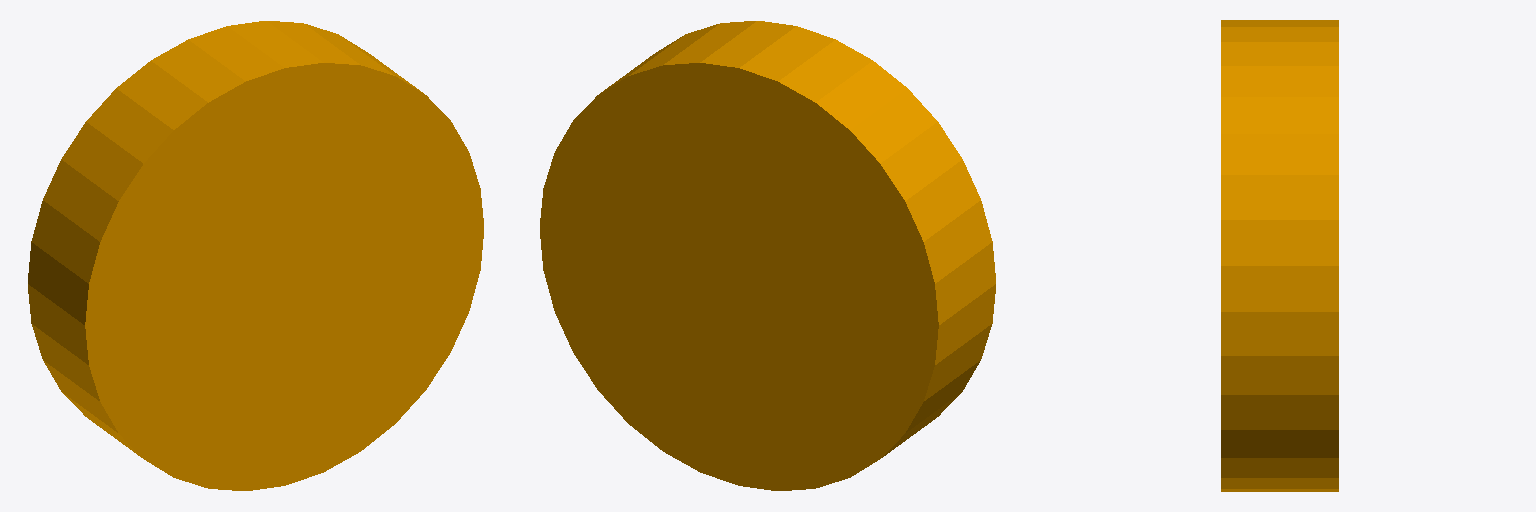
URDF robot description (NIVEA.urdf):
<?xml version="1.0" ?>
<robot name="NIVEA.urdf">
  <link name="baseLink">
    <contact>
      <lateral_friction value="0.5"/>
      <rolling_friction value="0.0"/>
      <contact_cfm value="0.0"/>
      <contact_erp value="1.0"/>
    </contact>
    <inertial>
      <origin rpy="0 0 0" xyz="0.0 0.0 0.0"/>
       <mass value=".1"/>
       <inertia ixx="1" ixy="0" ixz="0" iyy="1" iyz="0" izz="1"/>
    </inertial>
    <visual>
      <origin rpy="0 0 0" xyz="0 0 0"/>
      <geometry>
        <mesh filename="NIVEA.obj" scale=".05 .05 .05"/> #scale="1 1 1"
      </geometry>
    </visual>
    <collision>
      <origin rpy="0 0 0" xyz="0 0 0"/>
      <geometry>
	 <mesh filename="NIVEA.obj" scale=".05 .05 .05"/> #scale=".1 .1 .1"
      </geometry>
    </collision>
  </link>
</robot>

--- Facts derived from the render (not from the file) ---
Views: 3 orthographic renders of the robot side by side, from view 1: azimuth 30°, elevation 25°; view 2: azimuth 150°, elevation 25°; view 3: azimuth 270°, elevation 25°.
Robot: NIVEA.urdf — 1 links, 0 joints (none); root link baseLink; default pose: every joint at zero.
Links seen in each view (by area): view 1: baseLink; view 2: baseLink; view 3: baseLink.
Boxes of the visible links, x1,y1,x2,y2 form: baseLink: [28, 21, 483, 490]; baseLink: [540, 21, 995, 490]; baseLink: [1221, 20, 1338, 491].
Bounding box of the posed robot: 0.1 × 0.025 × 0.1 m (x, y, z).
Meshes: 1 distinct files referenced, 1 mesh visuals loaded (1 OBJ).